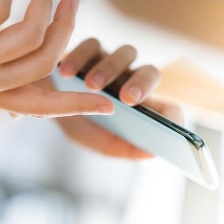phone: (37, 55, 220, 193)
